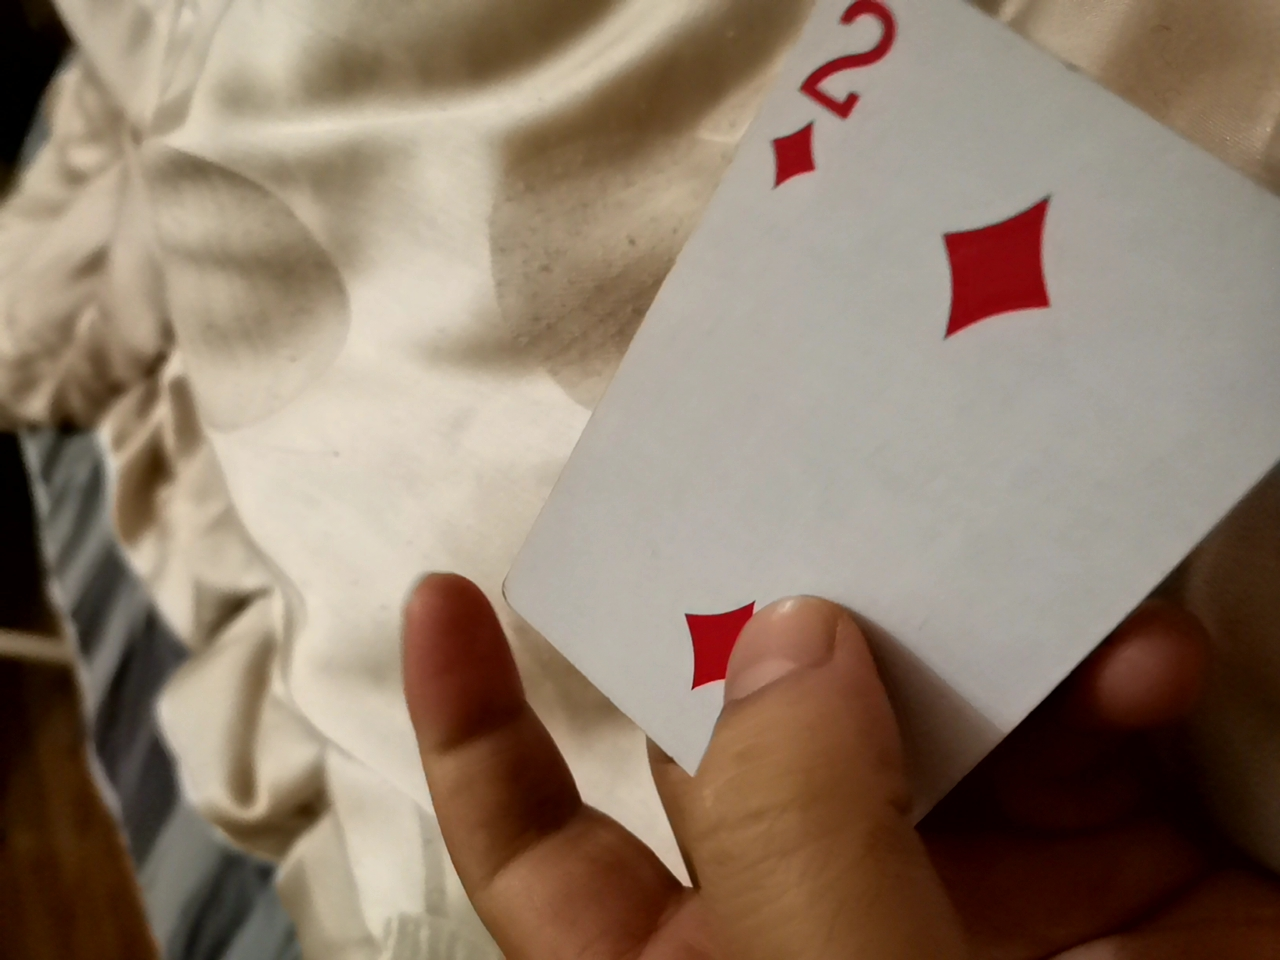fk 2: (425, 4, 1267, 807)
